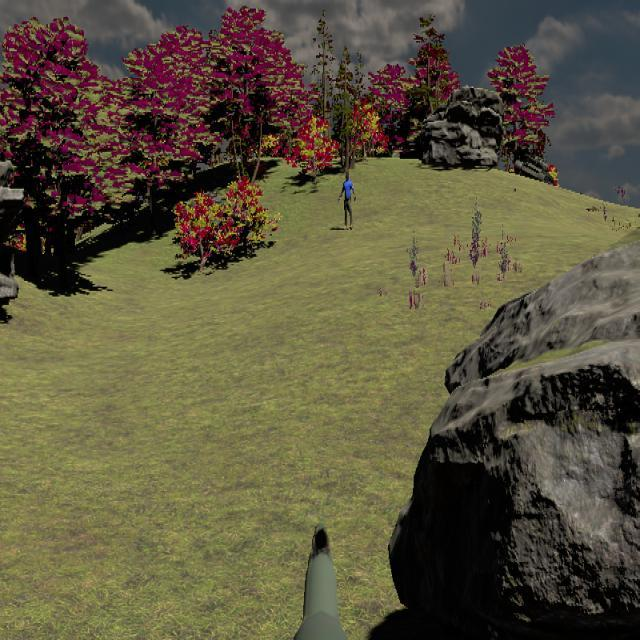Human: (338, 170, 356, 230)
